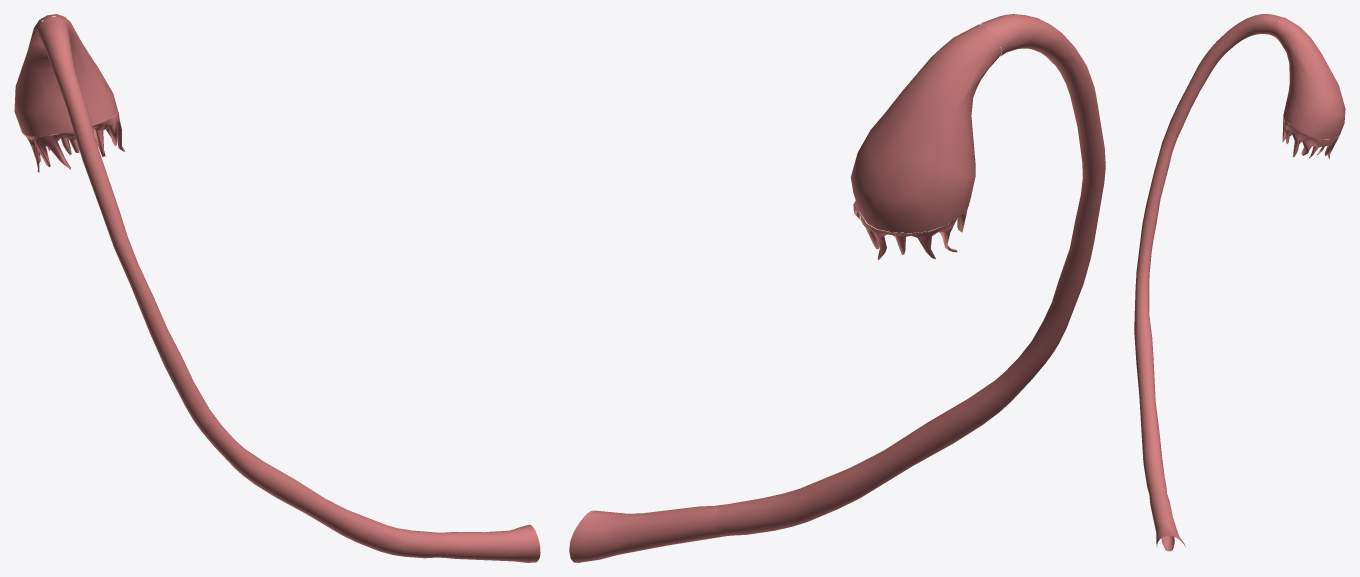
File: vh_f_fallopian_tube_r-20.glb
3 views of the same model, side by side, from view 1: azimuth 30°, elevation 25°; view 2: azimuth 150°, elevation 25°; view 3: azimuth 270°, elevation 25° (orthographic). The views are drawn at different scales.
Visible parts, largest first — view 1: VH_F_ampulla_of_uterine_tube_R, VH_F_uterine_tube_infundibulum_R, VH_F_isthmus_of_fallopian_tube_R, VH_F_fibria_of_uterine_tube_R; view 2: VH_F_ampulla_of_uterine_tube_R, VH_F_uterine_tube_infundibulum_R, VH_F_isthmus_of_fallopian_tube_R, VH_F_fibria_of_uterine_tube_R; view 3: VH_F_ampulla_of_uterine_tube_R, VH_F_uterine_tube_infundibulum_R, VH_F_isthmus_of_fallopian_tube_R, VH_F_fibria_of_uterine_tube_R.
Boxes of the visible parts, x1,y1,x2,y2 form: VH_F_ampulla_of_uterine_tube_R: [37, 16, 449, 558]; VH_F_uterine_tube_infundibulum_R: [14, 14, 118, 136]; VH_F_isthmus_of_fallopian_tube_R: [443, 524, 540, 562]; VH_F_fibria_of_uterine_tube_R: [22, 113, 125, 172]; VH_F_ampulla_of_uterine_tube_R: [715, 14, 1105, 536]; VH_F_uterine_tube_infundibulum_R: [850, 24, 1001, 232]; VH_F_isthmus_of_fallopian_tube_R: [569, 505, 724, 562]; VH_F_fibria_of_uterine_tube_R: [853, 201, 967, 259]; VH_F_ampulla_of_uterine_tube_R: [1134, 14, 1283, 493]; VH_F_uterine_tube_infundibulum_R: [1273, 17, 1345, 138]; VH_F_isthmus_of_fallopian_tube_R: [1149, 488, 1185, 551]; VH_F_fibria_of_uterine_tube_R: [1282, 117, 1339, 158].
Size of the model in its own units: 0.0344 by 0.0446 by 0.0209.
